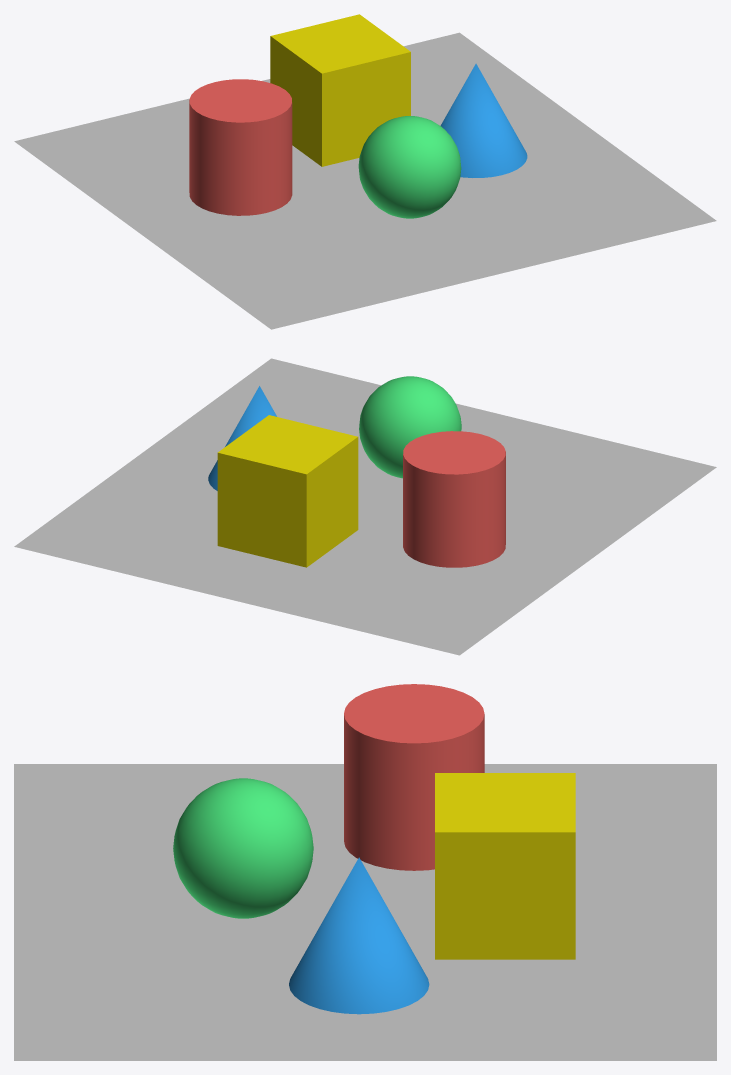
Rendered from simple-scene.gltf.
3 renders of one model, top to bottom at view 1: azimuth 30°, elevation 25°; view 2: azimuth 150°, elevation 25°; view 3: azimuth 270°, elevation 25°, orthographic. The views are drawn at different scales.
Visible parts, largest first — view 1: Plane, Cube, Cylinder, Sphere, Cone; view 2: Plane, Cube, Cylinder, Sphere, Cone; view 3: Plane, Cube, Cylinder, Sphere, Cone.
Boxes of the visible parts, x1,y1,x2,y2 form: Plane: (14, 32, 716, 329); Cube: (270, 14, 410, 166); Cylinder: (189, 79, 292, 215); Sphere: (358, 116, 461, 218); Cone: (440, 63, 527, 177); Plane: (14, 358, 716, 655); Cube: (217, 415, 358, 567); Cylinder: (403, 431, 505, 567); Sphere: (359, 376, 461, 478); Cone: (208, 386, 276, 490); Plane: (14, 764, 716, 1060); Cube: (435, 773, 575, 959); Cylinder: (344, 684, 484, 870); Sphere: (173, 778, 313, 918); Cone: (289, 857, 429, 1014).
Bounding box in the file's own units: 10 × 2 × 10.
